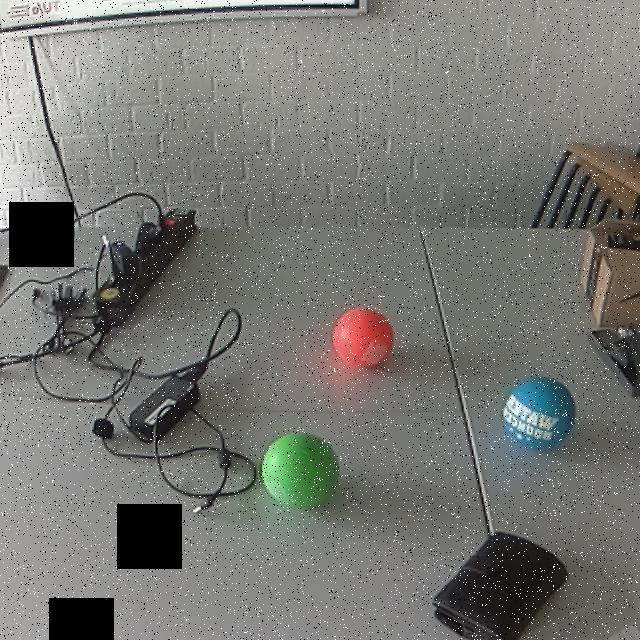ball: (258, 427, 342, 511), (329, 303, 397, 372)
